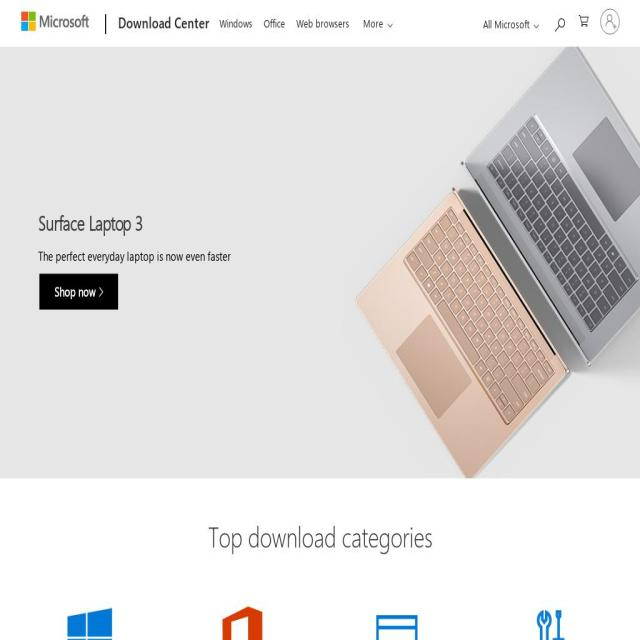button: (112, 1, 213, 46), (39, 273, 119, 310), (473, 1, 543, 42), (291, 1, 355, 41), (355, 1, 403, 45), (214, 1, 258, 41), (258, 1, 291, 41), (548, 2, 571, 40), (579, 0, 589, 39)
heading: (12, 518, 628, 554), (38, 210, 231, 234)
image: (0, 19, 636, 500), (65, 606, 113, 640), (526, 606, 574, 640), (219, 606, 266, 640), (373, 606, 420, 640)
text: (38, 237, 231, 264), (118, 12, 210, 34), (54, 283, 96, 300), (483, 17, 529, 31)
